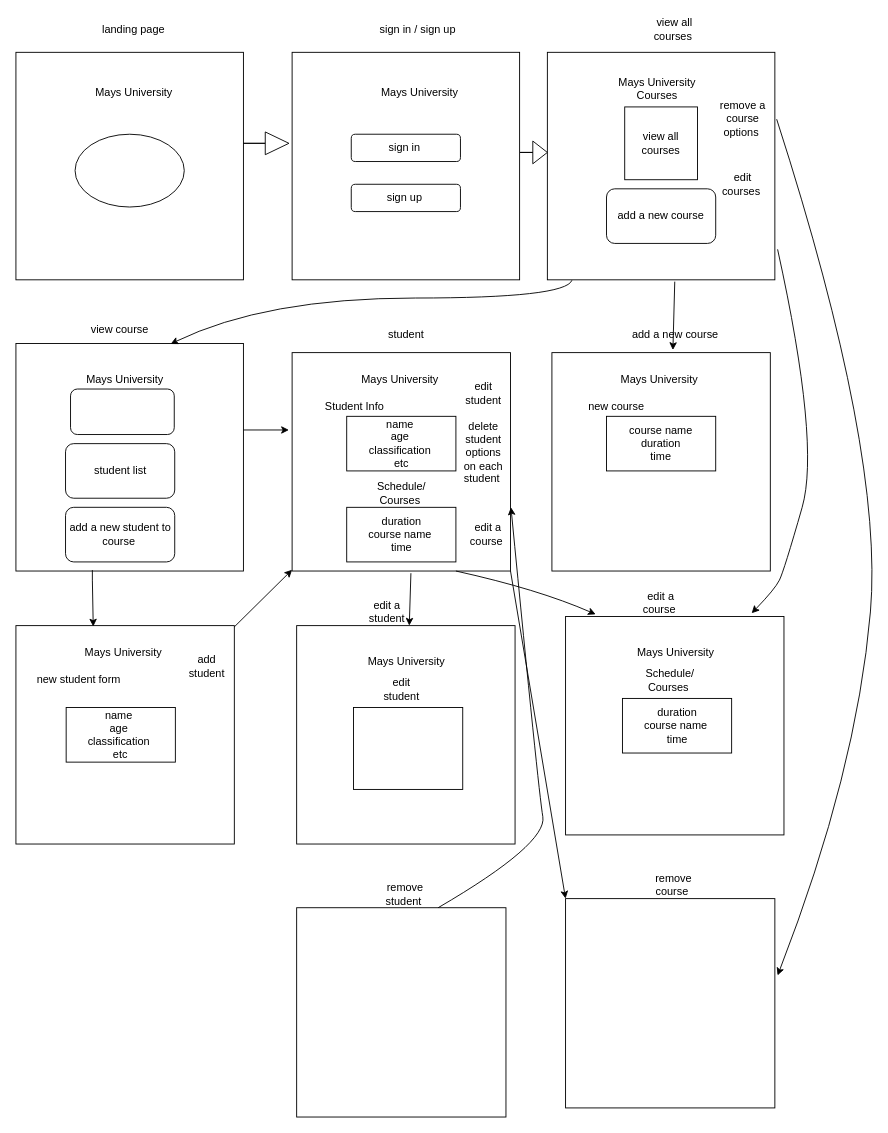
This 888x1133 diagram has some shape labels left out. Here are the shapes that lost their labels. From the top down, the centre of each, then its label:
(129,170): Logo
(122,411): current course
(408,748): edit student name classification age etc
(401,1012): are you sure you want to remove student from this course?
(670,1003): are you sure you want to remove course?
